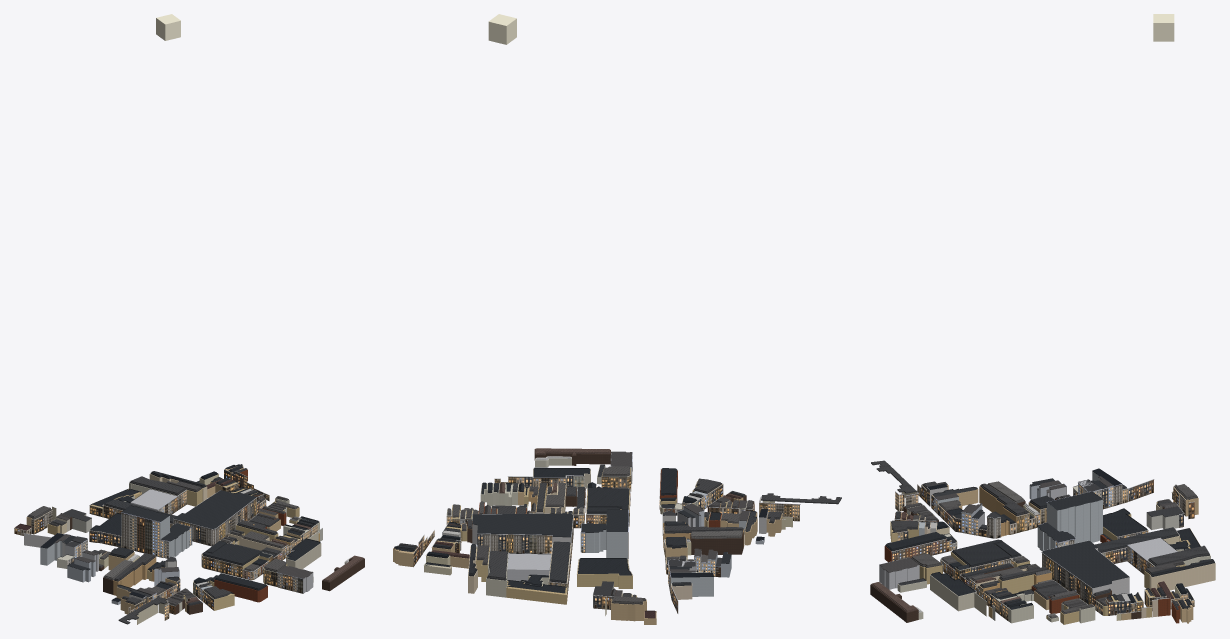
3 renders of one model, left to right at view 1: azimuth 30°, elevation 25°; view 2: azimuth 150°, elevation 25°; view 3: azimuth 270°, elevation 25°, orthographic. The views are drawn at different scales.
Parts seen in each view (by area): view 1: bldg_511430465_roof, bldg_512276966_facade0, bldg_511535357_roof_b, bldg_511430465_facade2, bldg_511535319, bldg_781027156, SunDisc, bldg_511535357_facade3, bldg_511535313; view 2: bldg_511430465_roof, bldg_511430465_facade4, bldg_781027156, bldg_511535301, bldg_511535357_roof_b, bldg_511535355_roof_b, SunDisc, bldg_781027154, bldg_511535355, bldg_511430466_roof_b; view 3: bldg_511430465_roof, bldg_512276966, bldg_511430474, bldg_511430465_facade2, bldg_511535357_roof_b, bldg_292606813, bldg_511535355_roof_b, bldg_511430466_roof_b, bldg_511535319_facade0, bldg_781027156, bldg_511535364, SunDisc (+4 smaller).
Part boxes in pixels (left/top/right/bottom): bldg_511430465_roof: left=173, top=490, right=256, bottom=528; bldg_512276966_facade0: left=121, top=512, right=160, bottom=557; bldg_511535357_roof_b: left=203, top=543, right=261, bottom=564; bldg_511430465_facade2: left=215, top=497, right=257, bottom=542; bldg_511535319: left=214, top=579, right=267, bottom=602; bldg_781027156: left=130, top=489, right=176, bottom=510; SunDisc: left=156, top=14, right=180, bottom=40; bldg_511535357_facade3: left=202, top=556, right=243, bottom=577; bldg_511535313: left=113, top=557, right=156, bottom=595; bldg_511430465_roof: left=472, top=513, right=573, bottom=537; bldg_511430465_facade4: left=489, top=533, right=552, bottom=553; bldg_781027156: left=507, top=553, right=551, bottom=581; bldg_511535301: left=690, top=532, right=743, bottom=555; bldg_511535357_roof_b: left=588, top=488, right=628, bottom=509; bldg_511535355_roof_b: left=578, top=558, right=630, bottom=574; SunDisc: left=488, top=14, right=516, bottom=44; bldg_781027154: left=506, top=581, right=567, bottom=604; bldg_511535355: left=577, top=559, right=632, bottom=588; bldg_511430466_roof_b: left=550, top=541, right=569, bottom=581; bldg_511430465_roof: left=1042, top=540, right=1128, bottom=587; bldg_512276966: left=1047, top=499, right=1102, bottom=543; bldg_511430474: left=1149, top=563, right=1215, bottom=590; bldg_511430465_facade2: left=1041, top=552, right=1092, bottom=604; bldg_511535357_roof_b: left=953, top=539, right=1009, bottom=565; bldg_292606813: left=930, top=575, right=976, bottom=611; bldg_511535355_roof_b: left=1103, top=508, right=1146, bottom=535; bldg_511430466_roof_b: left=1095, top=527, right=1177, bottom=551; bldg_511535319_facade0: left=891, top=538, right=946, bottom=561; bldg_781027156: left=1128, top=537, right=1177, bottom=567; bldg_511535364: left=879, top=565, right=919, bottom=589; SunDisc: left=1153, top=14, right=1174, bottom=41.
Size of the model in its own units: 295 by 529 by 297.
Materials: 116 (51 with a texture image).
